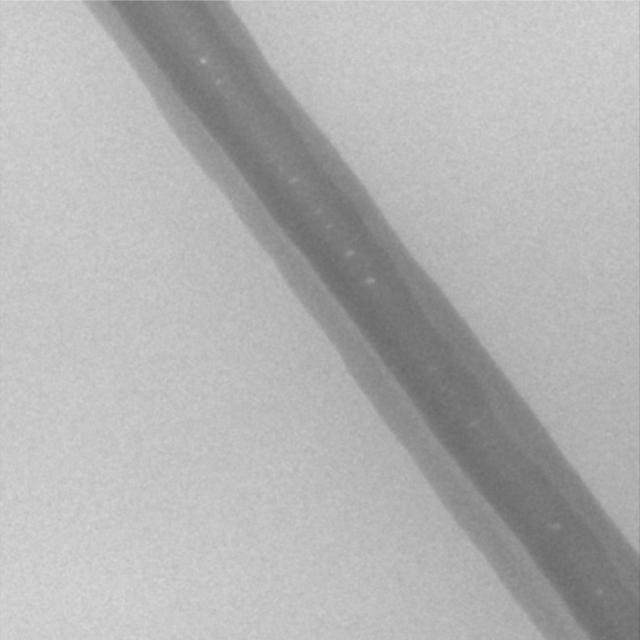air hole: (544, 522, 561, 533), (364, 276, 376, 286), (286, 174, 298, 184), (595, 588, 604, 600), (343, 248, 354, 256), (198, 56, 206, 66), (214, 76, 221, 86)
